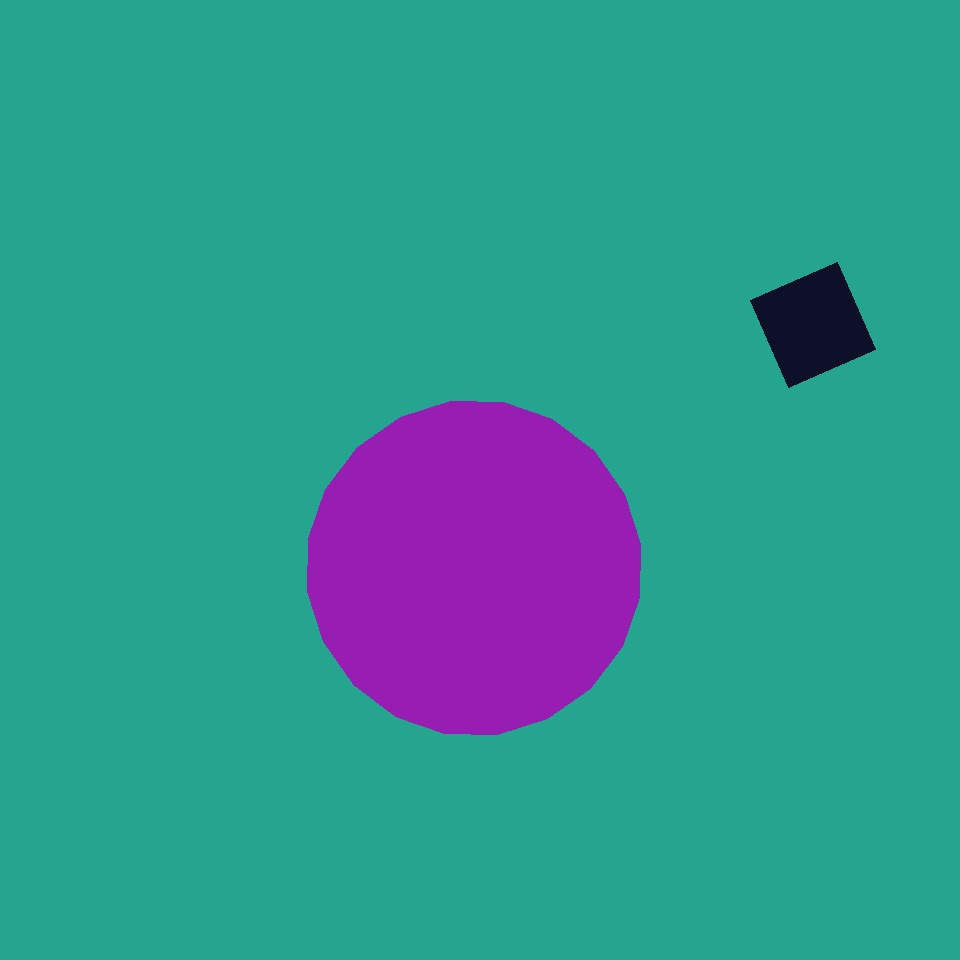circle: (290, 392, 478, 568), (674, 641, 758, 733)
square: (105, 160, 395, 450), (751, 262, 876, 388)
triangle: (308, 402, 640, 734)
